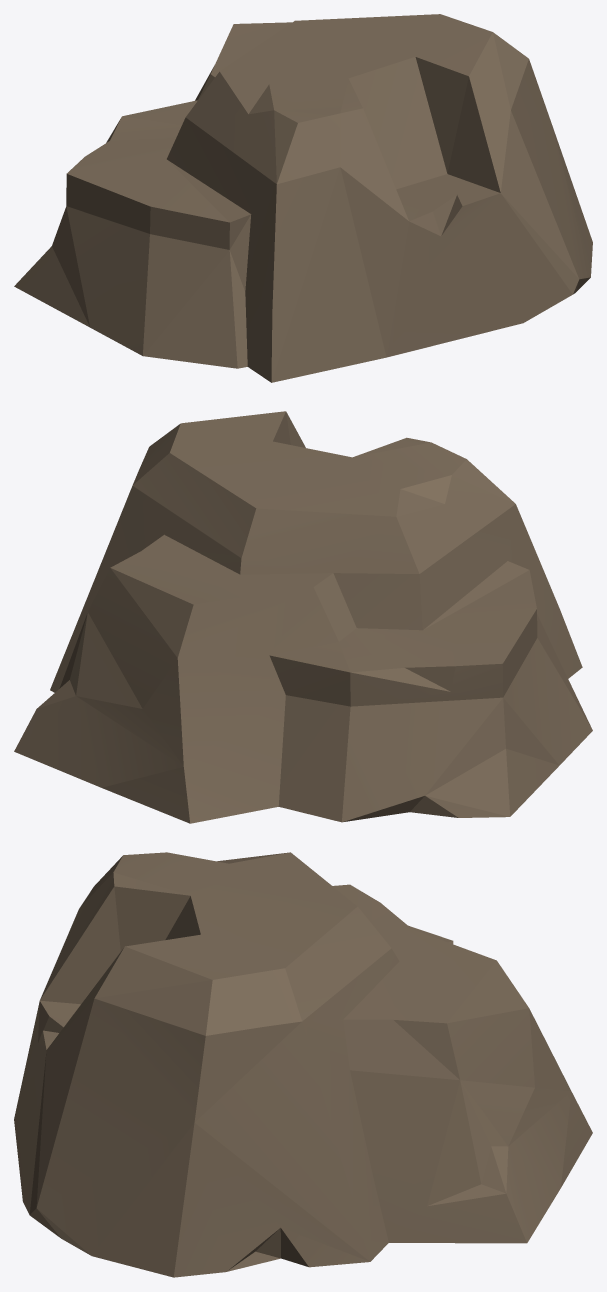
The model's file is Rock_3.fbx.
3 renders of one model, top to bottom at view 1: azimuth 30°, elevation 25°; view 2: azimuth 150°, elevation 25°; view 3: azimuth 270°, elevation 25°, orthographic. The views are drawn at different scales.
Visible parts, largest first — view 1: Rock_3; view 2: Rock_3; view 3: Rock_3.
Part boxes in pixels (left/top/right/bottom): Rock_3: left=14, top=14, right=592, bottom=382; Rock_3: left=14, top=411, right=592, bottom=823; Rock_3: left=14, top=852, right=592, bottom=1277.
Bounding box in the file's own units: 187 × 81.48 × 170.
